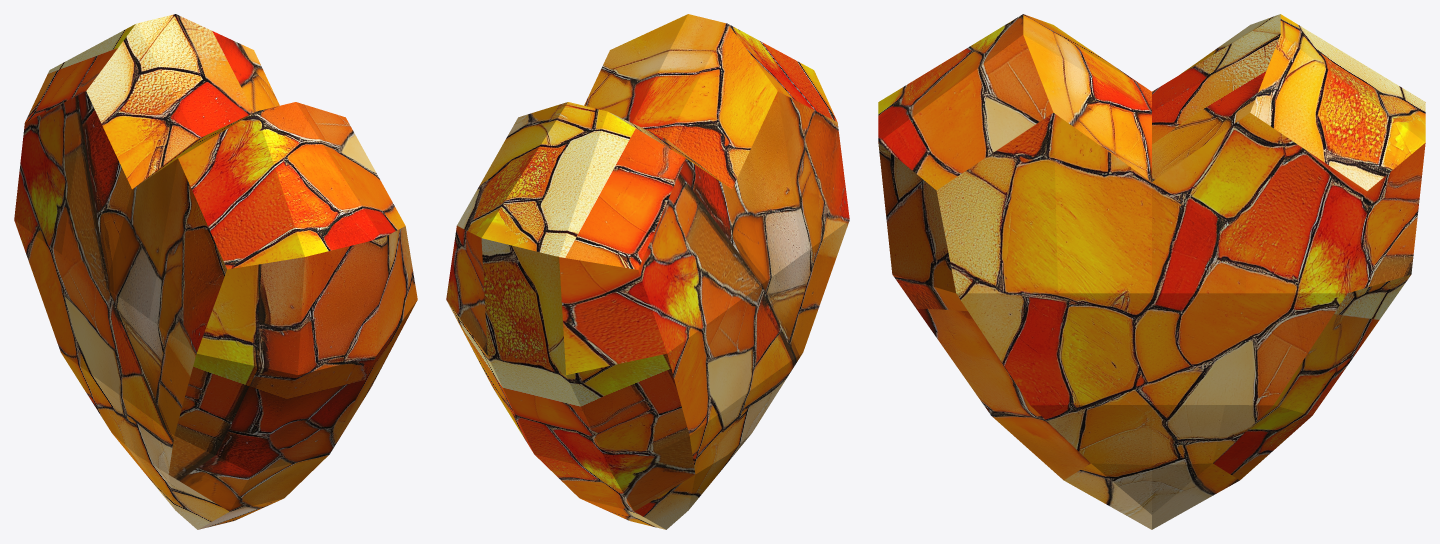
File: gemstone1Orange.glb
3 views of the same model, side by side, from view 1: azimuth 30°, elevation 25°; view 2: azimuth 150°, elevation 25°; view 3: azimuth 270°, elevation 25° (orthographic). The views are drawn at different scales.
Visible parts, largest first — view 1: geamstoneHeart; view 2: geamstoneHeart; view 3: geamstoneHeart.
Part boxes in pixels (<box>): geamstoneHeart: <box>14,14,417,529</box>; geamstoneHeart: <box>446,14,849,529</box>; geamstoneHeart: <box>878,14,1425,529</box>.
Size of the model in its own units: 0.5 by 1 by 1.
1 material, 1 textured.
